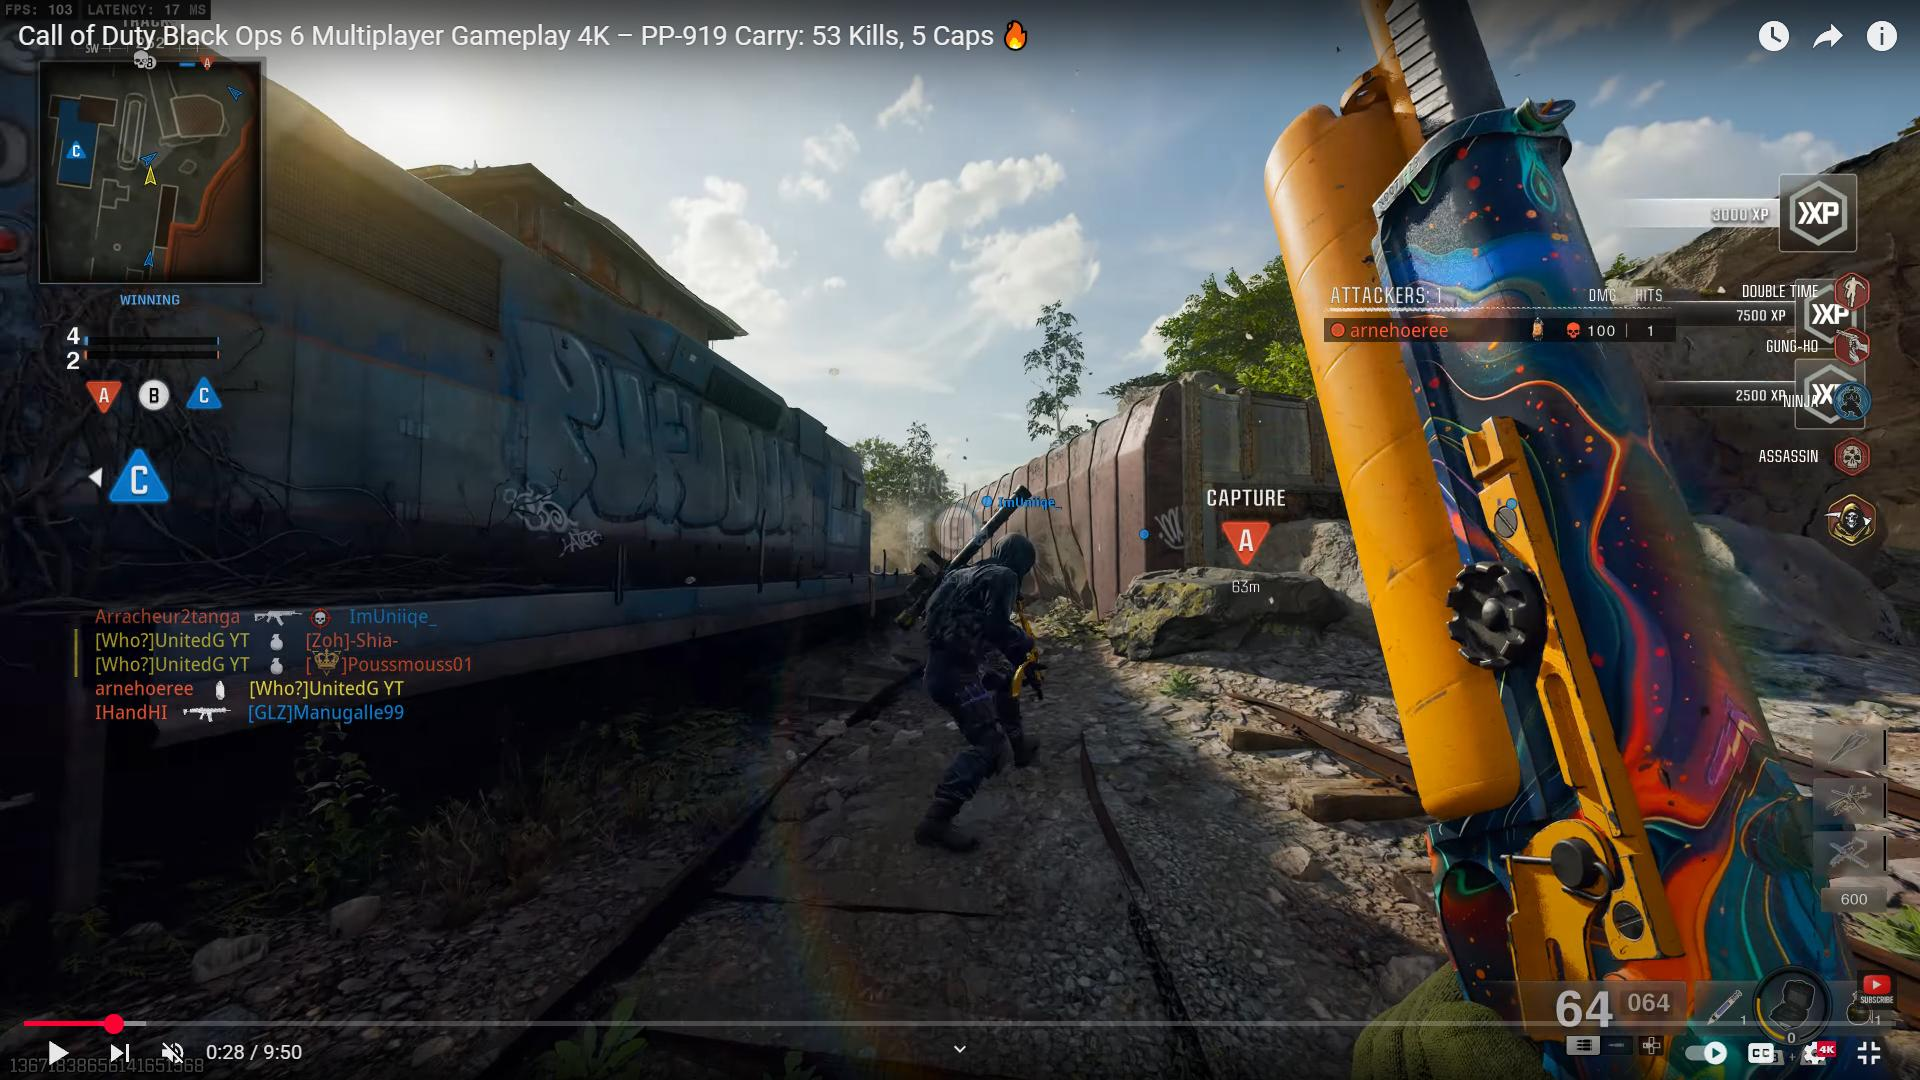Enemy: (914, 502, 1060, 848)
